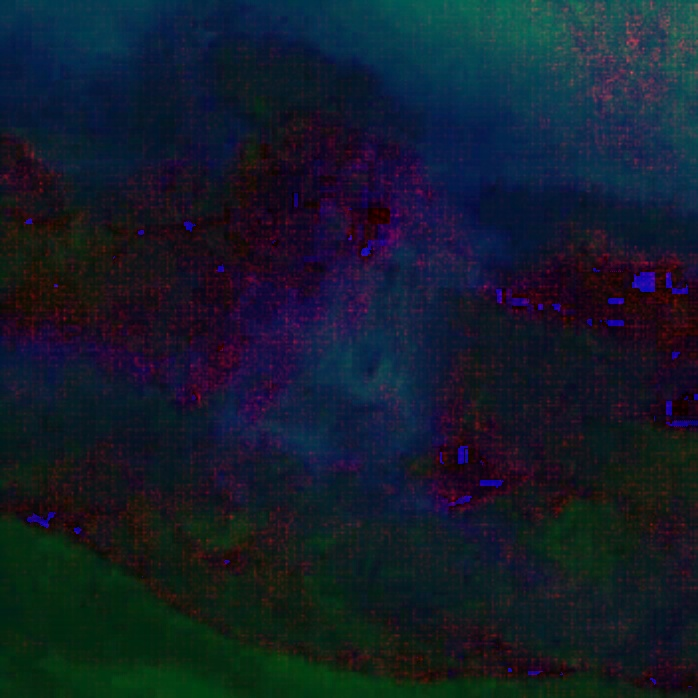rip_current: (254, 130, 516, 476)
